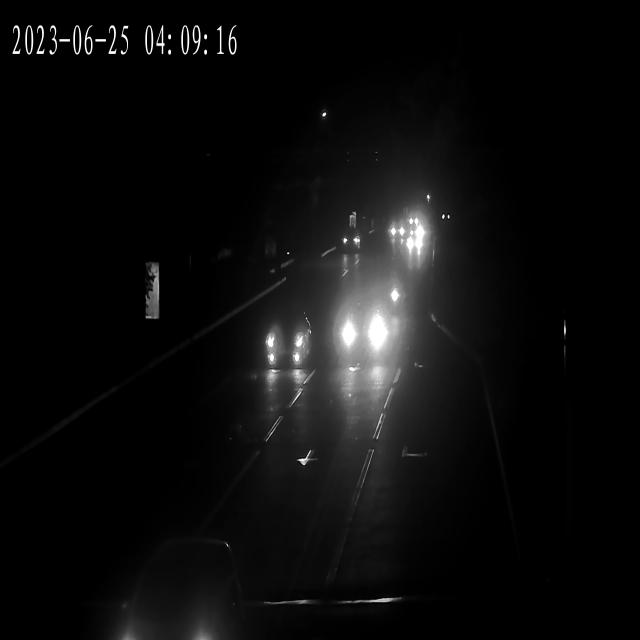Car: (114, 533, 247, 638), (333, 299, 401, 364), (263, 311, 318, 369), (350, 275, 406, 318), (338, 228, 364, 252), (383, 222, 408, 242), (404, 236, 425, 254), (404, 234, 424, 251)
